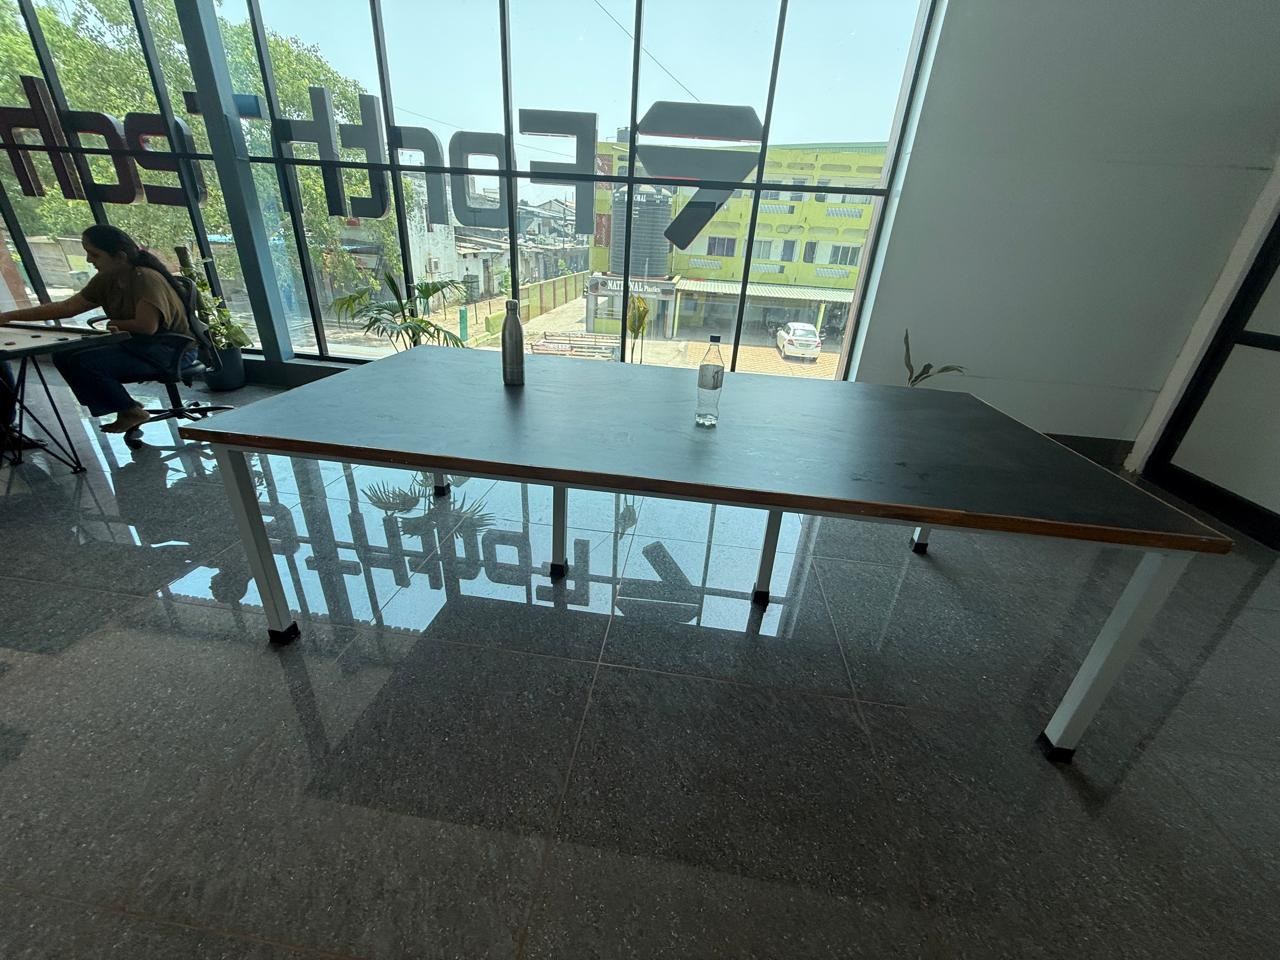bottle_on_table: (678, 326, 744, 433), (486, 277, 540, 400)
